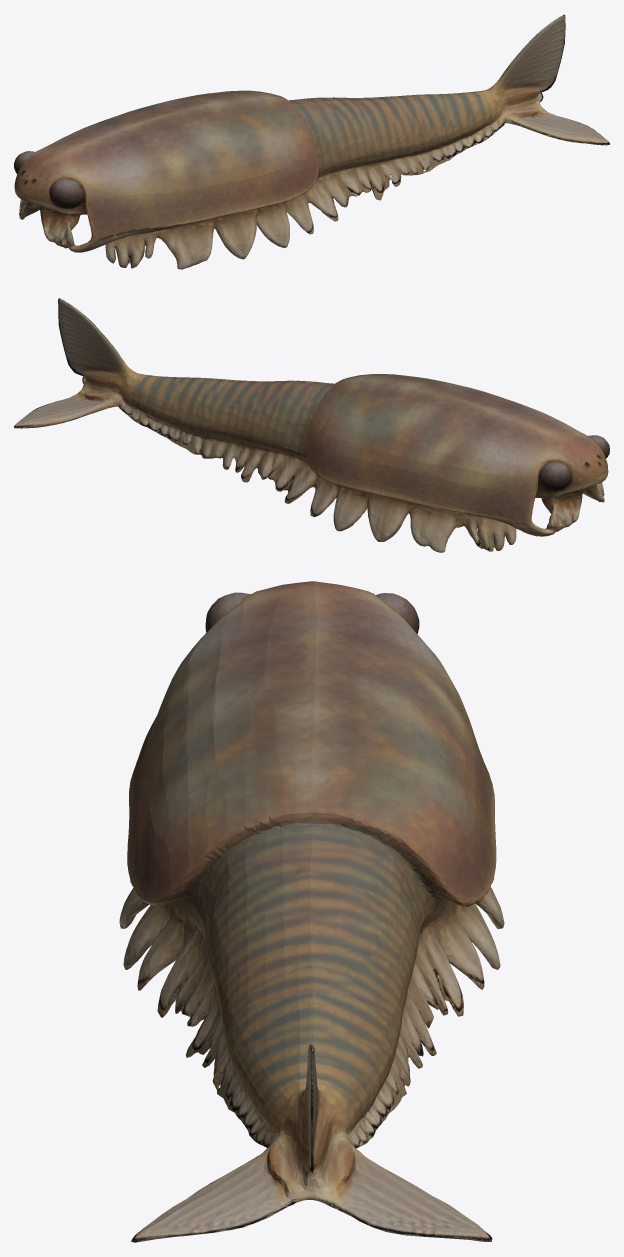
3 views of the same model, one above another, from view 1: azimuth 30°, elevation 25°; view 2: azimuth 150°, elevation 25°; view 3: azimuth 270°, elevation 25° (orthographic). The views are drawn at different scales.
Parts seen in each view (by area): view 1: world; view 2: world; view 3: world.
Part boxes in pixels (bbox=[...]): world: bbox=[14, 14, 609, 269]; world: bbox=[14, 298, 609, 552]; world: bbox=[119, 581, 504, 1242].
Bounding box in the file's own units: 0.9969 × 0.2098 × 0.3041.
Materials: 1 (1 with a texture image).
